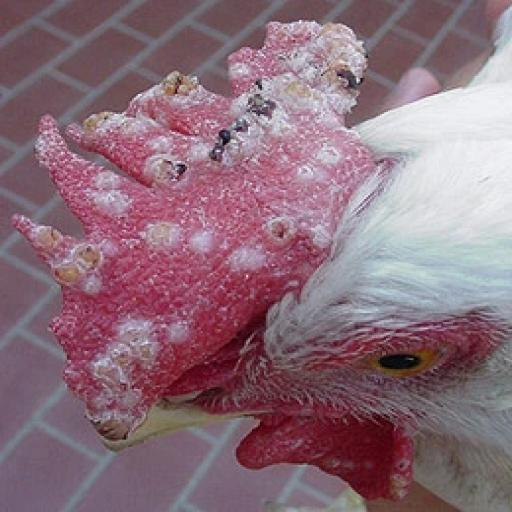disease: (52, 17, 378, 201), (57, 318, 217, 450), (143, 212, 334, 283), (2, 212, 127, 303)
